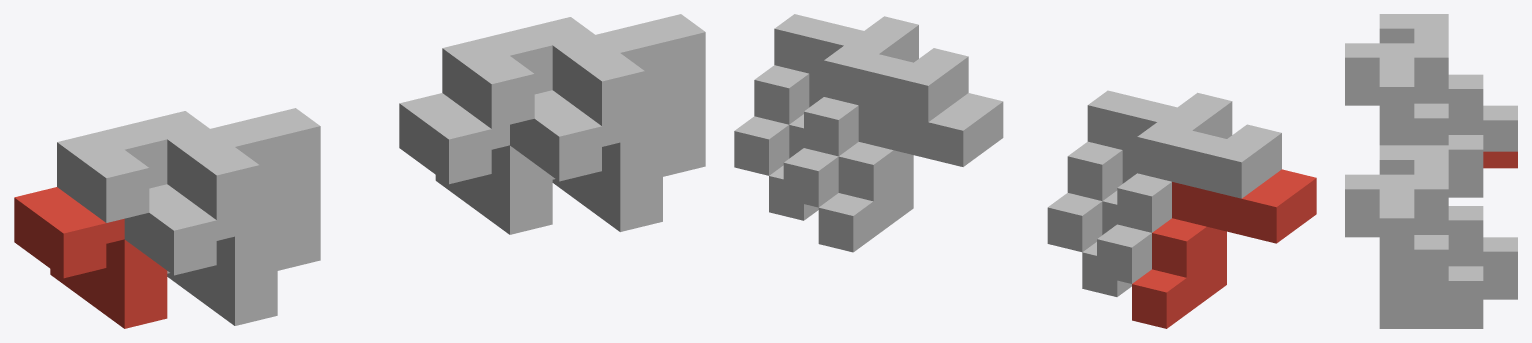
The model's file is tiling.obj.
3 views of the same model, side by side, from view 1: azimuth 30°, elevation 25°; view 2: azimuth 150°, elevation 25°; view 3: azimuth 270°, elevation 25° (orthographic). The views are drawn at different scales.
Parts seen in each view (by area): view 1: copy_1_domain_4, copy_1_domain_8, copy_1_domain_2, copy_1_domain_6, copy_1_domain_1, copy_1_domain_5, copy_1_domain_3, copy_1_domain_7; view 2: copy_1_domain_5, copy_1_domain_1, copy_1_domain_7, copy_1_domain_3, copy_1_domain_4, copy_1_domain_8, copy_1_domain_2, copy_1_domain_6; view 3: copy_1_domain_8, copy_1_domain_4, copy_1_domain_3, copy_1_domain_7, copy_1_domain_6, copy_1_domain_2, copy_1_domain_1, copy_1_domain_5.
Boxes of the visible parts, x1=… form: copy_1_domain_4: x1=167, y1=108, x2=320, y2=270; copy_1_domain_8: x1=552, y1=14, x2=705, y2=176; copy_1_domain_2: x1=124, y1=181, x2=277, y2=325; copy_1_domain_6: x1=510, y1=87, x2=662, y2=231; copy_1_domain_1: x1=14, y1=187, x2=167, y2=328; copy_1_domain_5: x1=399, y1=93, x2=552, y2=234; copy_1_domain_3: x1=57, y1=111, x2=209, y2=273; copy_1_domain_7: x1=442, y1=17, x2=594, y2=179; copy_1_domain_5: x1=818, y1=93, x2=1003, y2=252; copy_1_domain_1: x1=1132, y1=169, x2=1316, y2=328; copy_1_domain_7: x1=783, y1=45, x2=968, y2=207; copy_1_domain_3: x1=1097, y1=122, x2=1281, y2=283; copy_1_domain_4: x1=1047, y1=90, x2=1232, y2=252; copy_1_domain_8: x1=734, y1=14, x2=918, y2=175; copy_1_domain_2: x1=1082, y1=150, x2=1137, y2=296; copy_1_domain_6: x1=769, y1=73, x2=823, y2=220; copy_1_domain_8: x1=1345, y1=174, x2=1483, y2=312; copy_1_domain_4: x1=1345, y1=43, x2=1483, y2=180; copy_1_domain_3: x1=1379, y1=14, x2=1517, y2=151; copy_1_domain_7: x1=1379, y1=145, x2=1517, y2=282; copy_1_domain_6: x1=1345, y1=220, x2=1483, y2=328; copy_1_domain_2: x1=1345, y1=89, x2=1483, y2=197; copy_1_domain_1: x1=1483, y1=151, x2=1517, y2=168; copy_1_domain_5: x1=1483, y1=283, x2=1517, y2=299.
Bounding box in the file's own units: 15 × 4 × 5.
